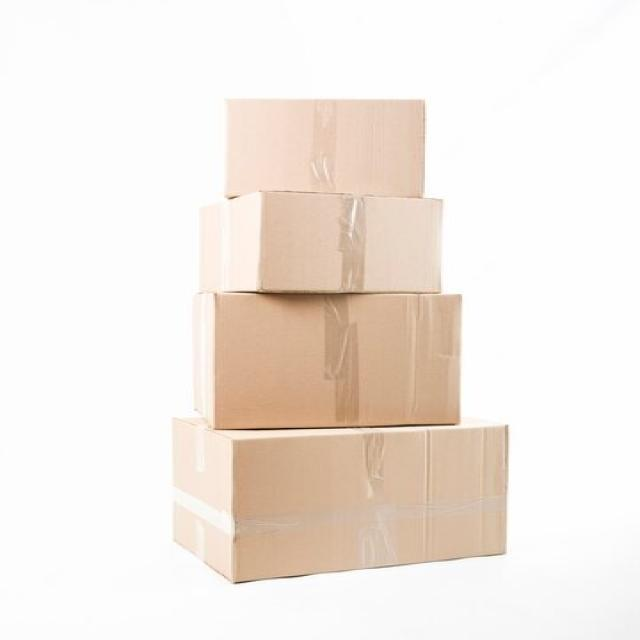BoxFace: (236, 424, 507, 586), (212, 296, 462, 430), (226, 99, 423, 198), (264, 189, 443, 295)
